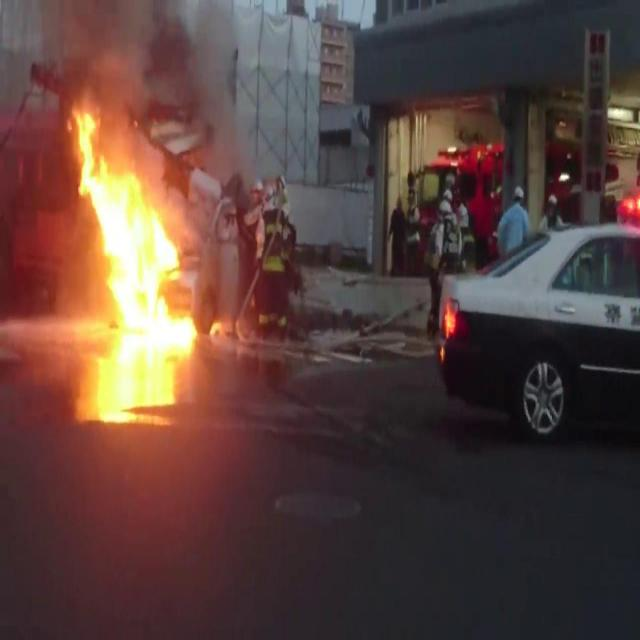fire: (65, 95, 185, 415)
